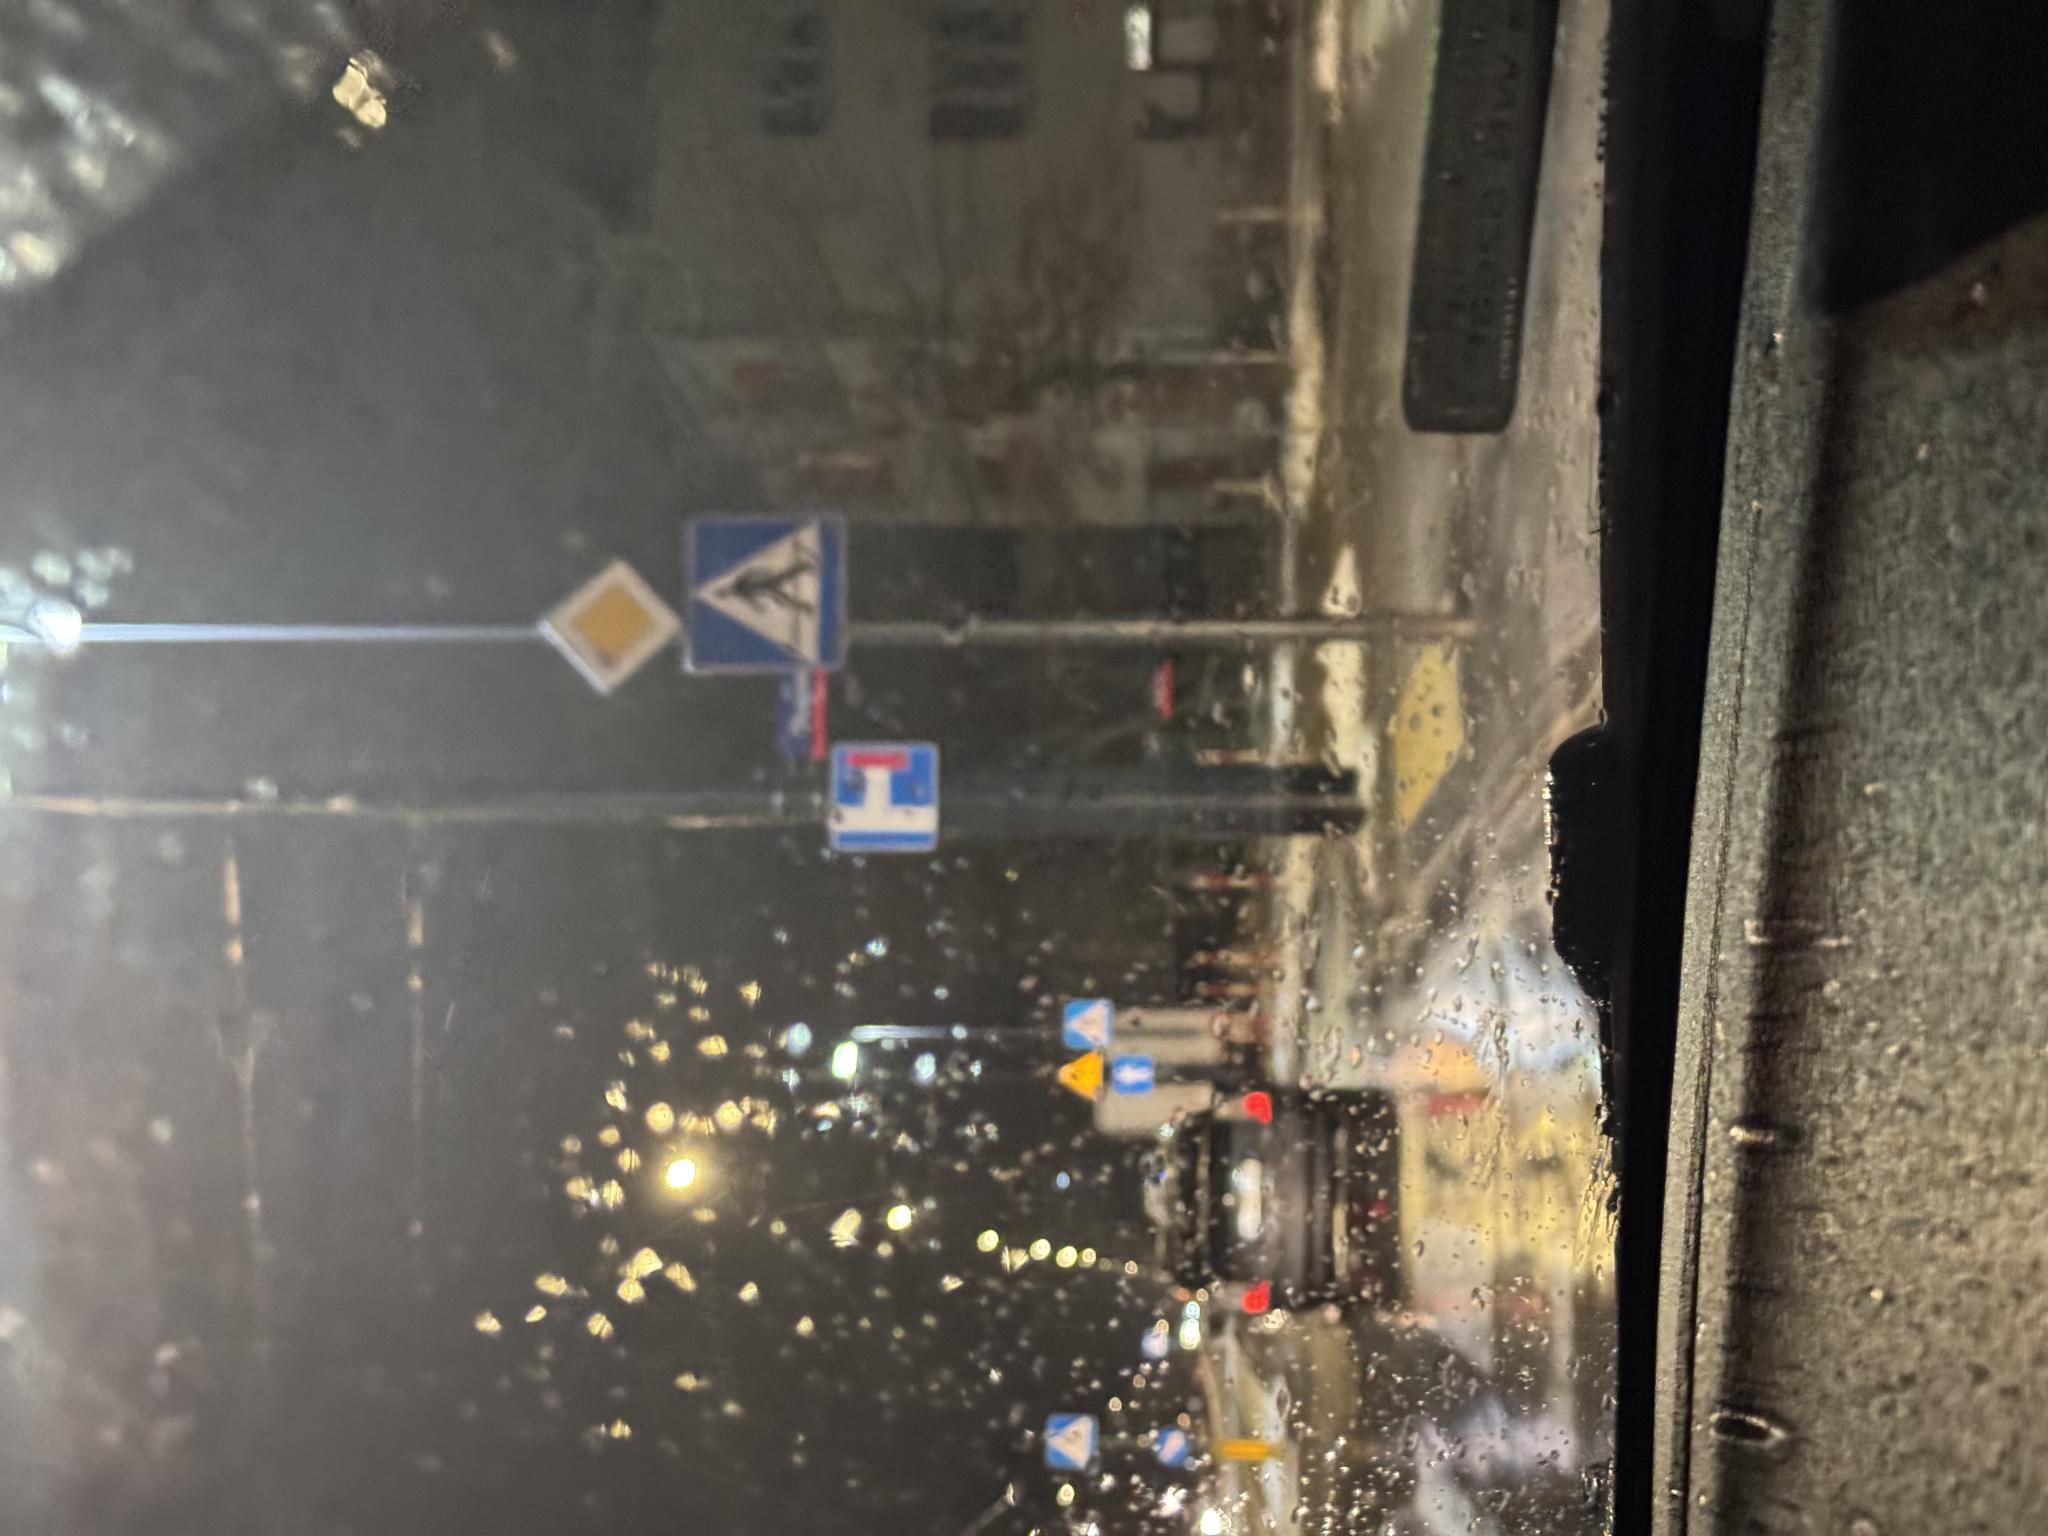information: (858, 684, 1024, 850), (839, 537, 977, 681), (682, 829, 795, 941)
